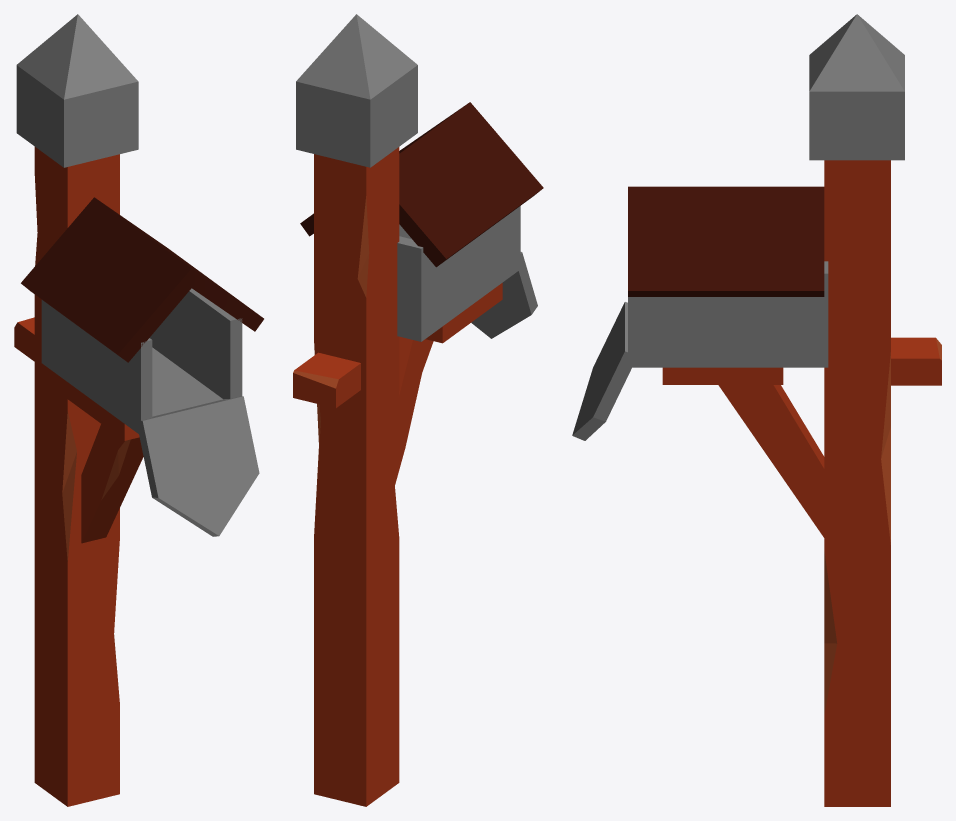
File: Mailbox_1.fbx
3 views of the same model, side by side, from view 1: azimuth 30°, elevation 25°; view 2: azimuth 150°, elevation 25°; view 3: azimuth 270°, elevation 25° (orthographic).
Visible parts, largest first — view 1: Mailbox_1; view 2: Mailbox_1; view 3: Mailbox_1.
Boxes of the visible parts, x1,y1,x2,y2 form: Mailbox_1: (14,14,263,806); Mailbox_1: (293,14,543,806); Mailbox_1: (572,14,941,806).
Bounding box in the file's own units: 10.67 × 53.93 × 23.16.
